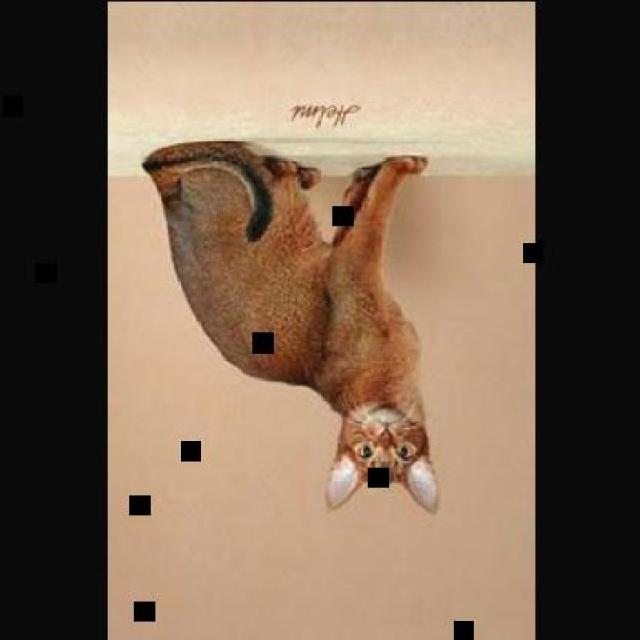unauthorized: (140, 137, 440, 514)
